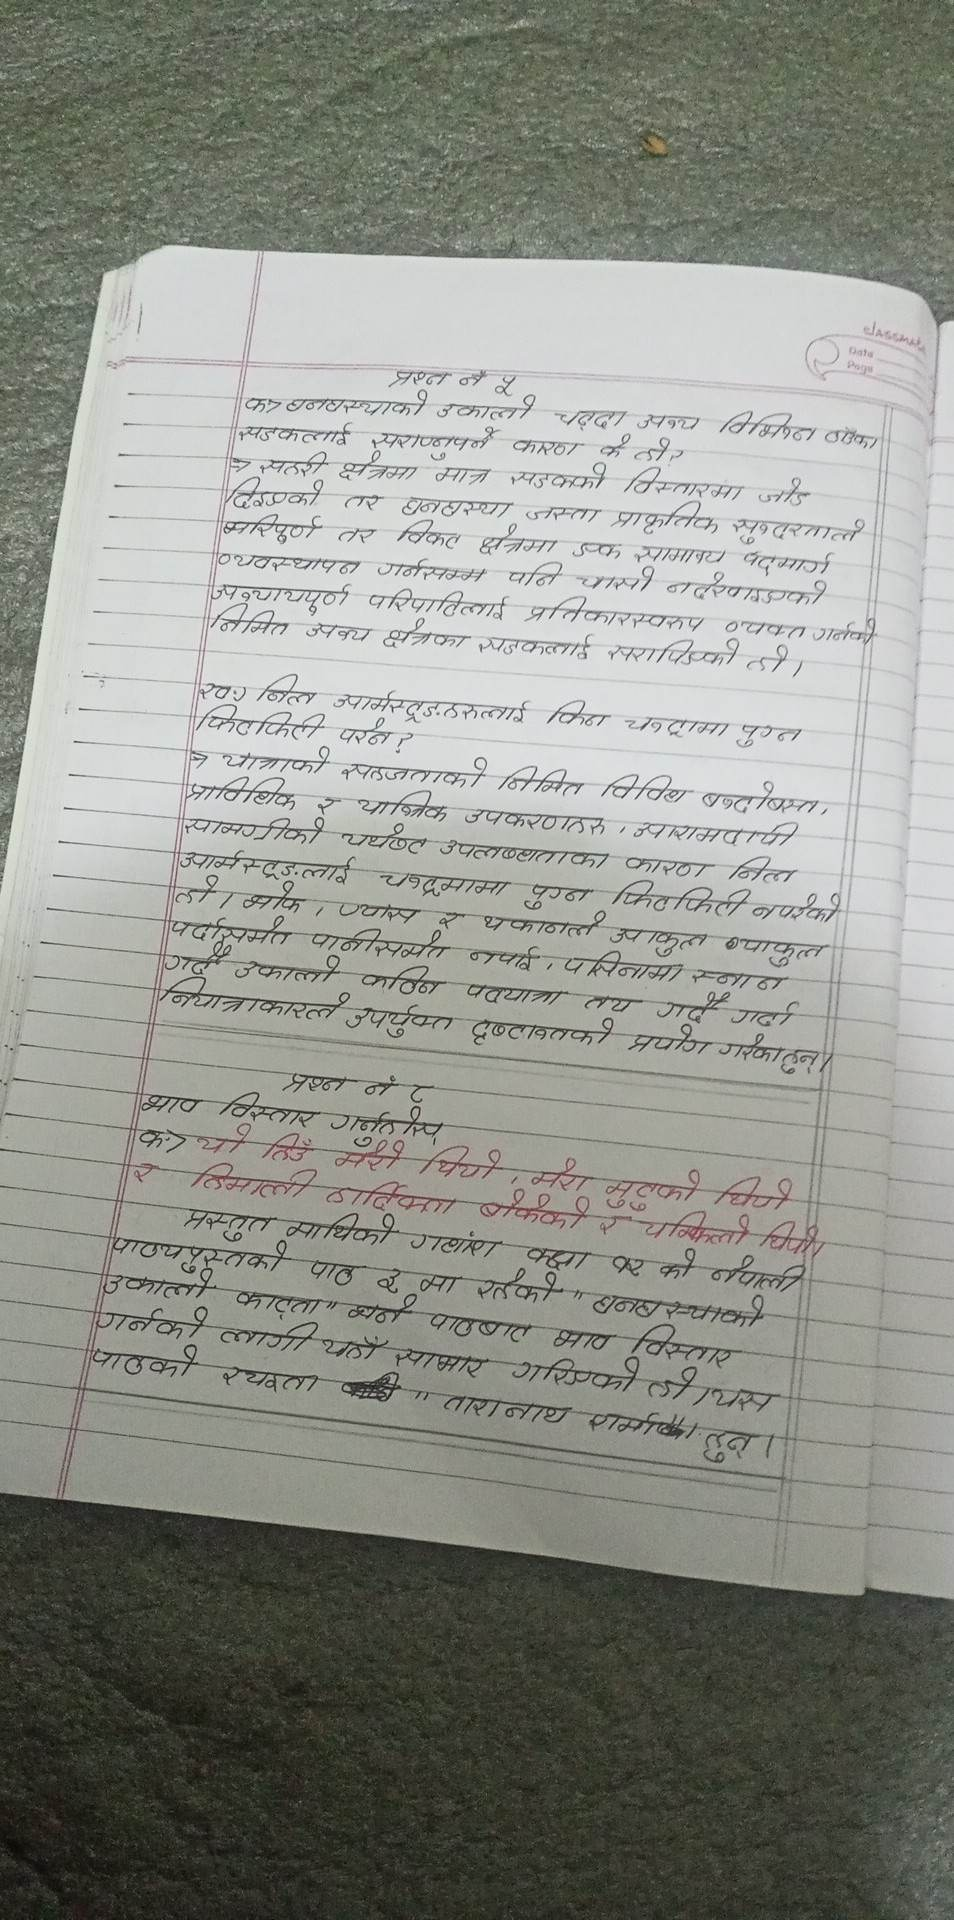text: (159, 978, 345, 1026), (522, 594, 707, 636), (331, 686, 529, 724), (663, 568, 828, 609), (593, 1291, 769, 1327), (629, 816, 798, 853), (469, 1013, 616, 1056), (113, 1238, 288, 1273), (438, 838, 611, 873), (180, 847, 353, 883), (606, 878, 753, 920), (441, 1387, 577, 1431), (189, 1161, 321, 1202), (479, 1187, 588, 1236), (367, 585, 512, 622), (631, 1321, 738, 1369), (198, 704, 329, 743), (512, 1354, 640, 1393), (462, 804, 607, 839), (216, 545, 366, 578), (344, 754, 487, 789), (181, 814, 325, 849), (311, 927, 447, 962), (369, 424, 500, 460), (321, 1179, 456, 1215), (605, 637, 743, 671), (603, 1167, 704, 1213), (283, 386, 431, 418), (328, 1103, 445, 1144), (699, 778, 822, 816), (206, 578, 355, 609), (93, 1302, 212, 1340), (727, 513, 868, 545), (625, 467, 746, 503), (562, 949, 683, 986), (377, 866, 511, 899), (347, 1002, 456, 1042), (607, 500, 723, 538), (185, 774, 300, 812), (426, 1307, 536, 1346), (167, 916, 296, 949), (708, 1249, 805, 1293), (475, 909, 601, 942), (238, 951, 347, 988), (92, 1343, 201, 1380), (285, 1211, 398, 1247), (640, 1213, 756, 1248), (100, 1265, 214, 1299), (716, 407, 821, 443), (607, 920, 708, 958), (476, 631, 599, 661), (181, 1205, 276, 1244), (216, 1319, 322, 1353), (418, 1142, 505, 1184), (225, 475, 327, 511), (220, 1362, 318, 1398), (220, 513, 325, 547), (238, 418, 354, 448), (623, 1022, 714, 1062), (358, 785, 451, 823), (220, 743, 331, 775), (339, 823, 431, 860), (741, 932, 833, 969), (495, 767, 592, 801), (378, 620, 471, 655), (476, 1269, 563, 1307), (392, 1344, 487, 1379), (222, 1093, 316, 1128), (716, 1173, 798, 1212), (751, 889, 843, 923), (738, 546, 836, 578), (396, 495, 516, 520), (355, 962, 445, 997), (436, 393, 540, 422), (378, 556, 486, 584), (622, 713, 734, 740), (231, 1286, 326, 1318), (464, 977, 566, 1007), (603, 774, 688, 808), (655, 989, 734, 1025), (478, 525, 558, 560), (621, 849, 708, 880), (407, 1232, 505, 1260), (336, 452, 419, 485), (507, 460, 607, 487), (634, 540, 726, 569), (331, 1140, 409, 1174), (239, 878, 305, 918), (207, 606, 291, 637), (465, 943, 540, 977), (579, 1407, 659, 1439), (318, 1329, 387, 1365), (723, 613, 807, 643), (757, 1220, 821, 1258), (523, 879, 594, 912), (528, 1157, 594, 1193), (577, 566, 660, 594), (806, 616, 885, 645), (687, 969, 787, 992), (735, 998, 802, 1032), (257, 671, 322, 707), (718, 1031, 783, 1067), (700, 1424, 756, 1466), (726, 855, 800, 885), (712, 1382, 779, 1416), (195, 1124, 260, 1158), (392, 520, 464, 551), (163, 943, 231, 975), (547, 699, 612, 732), (645, 1364, 698, 1404), (280, 1067, 347, 1098), (344, 1298, 418, 1326), (551, 1322, 614, 1356), (334, 902, 420, 926), (520, 503, 601, 528), (758, 475, 816, 509), (738, 722, 805, 752), (260, 448, 328, 476), (555, 404, 631, 429), (523, 1243, 595, 1269), (302, 620, 371, 647), (307, 1255, 358, 1292), (821, 424, 881, 454), (511, 435, 585, 459), (638, 407, 704, 433), (265, 1133, 316, 1166), (339, 718, 394, 748), (171, 873, 220, 907), (432, 462, 494, 489), (583, 988, 638, 1018), (505, 560, 565, 587), (656, 1248, 699, 1283), (745, 642, 789, 676), (388, 367, 456, 389), (569, 538, 625, 563), (140, 1093, 203, 1116), (781, 1044, 821, 1078), (418, 1271, 468, 1297), (371, 1264, 407, 1296), (634, 436, 671, 467), (340, 489, 385, 512), (598, 433, 636, 460), (361, 1071, 396, 1100), (337, 524, 377, 547), (607, 1255, 645, 1280), (137, 1120, 167, 1151), (131, 1162, 160, 1189), (191, 680, 229, 700), (595, 1213, 625, 1239), (407, 1080, 438, 1102), (312, 795, 337, 820), (459, 367, 491, 387), (494, 371, 518, 396), (438, 907, 463, 932), (244, 392, 268, 414)
